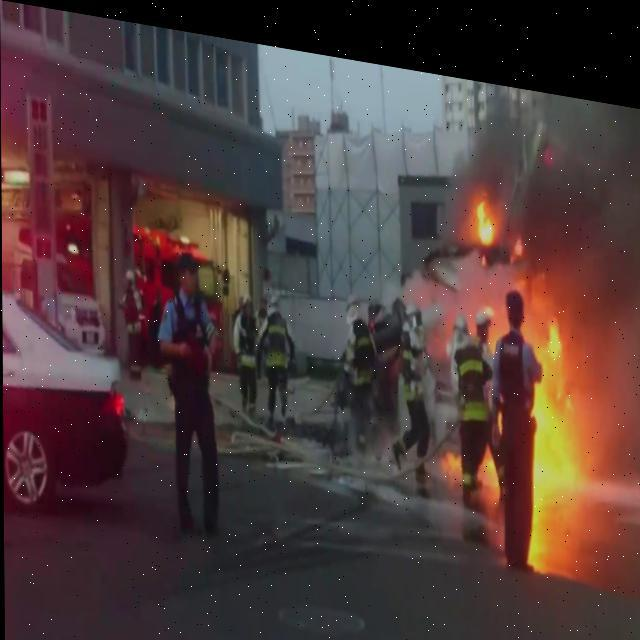Fire: (529, 290, 595, 564), (475, 176, 500, 232), (481, 437, 500, 474), (442, 425, 462, 452)
